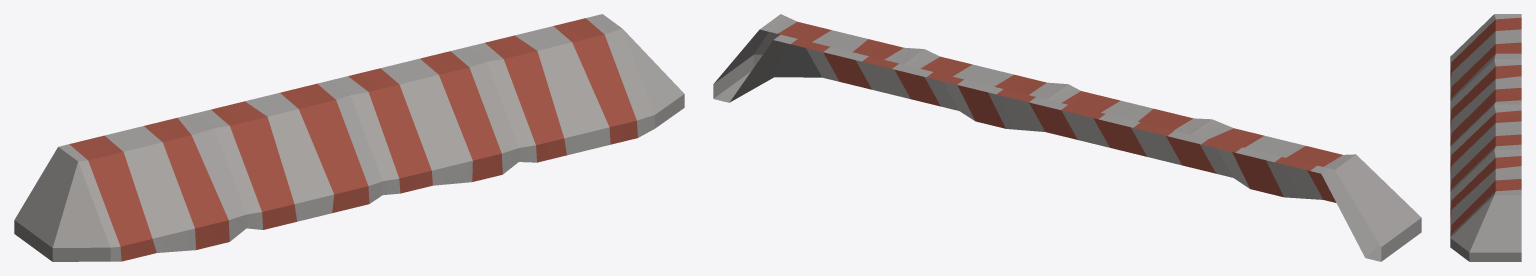
File: SM_Bld_Shop_Cover_04.obj
The picture shows the model from 3 angles, left to right: view 1: azimuth 30°, elevation 25°; view 2: azimuth 150°, elevation 25°; view 3: azimuth 270°, elevation 25°; orthographic projection. The views are drawn at different scales.
Parts seen in each view (by area): view 1: SM_Bld_Shop_Cover_04_0; view 2: SM_Bld_Shop_Cover_04_0; view 3: SM_Bld_Shop_Cover_04_0.
Boxes of the visible parts, x1,y1,x2,y2 form: SM_Bld_Shop_Cover_04_0: (14, 14, 684, 261); SM_Bld_Shop_Cover_04_0: (713, 14, 1421, 261); SM_Bld_Shop_Cover_04_0: (1450, 14, 1521, 261).
Size of the model in its own units: 5.1 by 0.6628 by 0.7325.
1 material, 1 textured.
